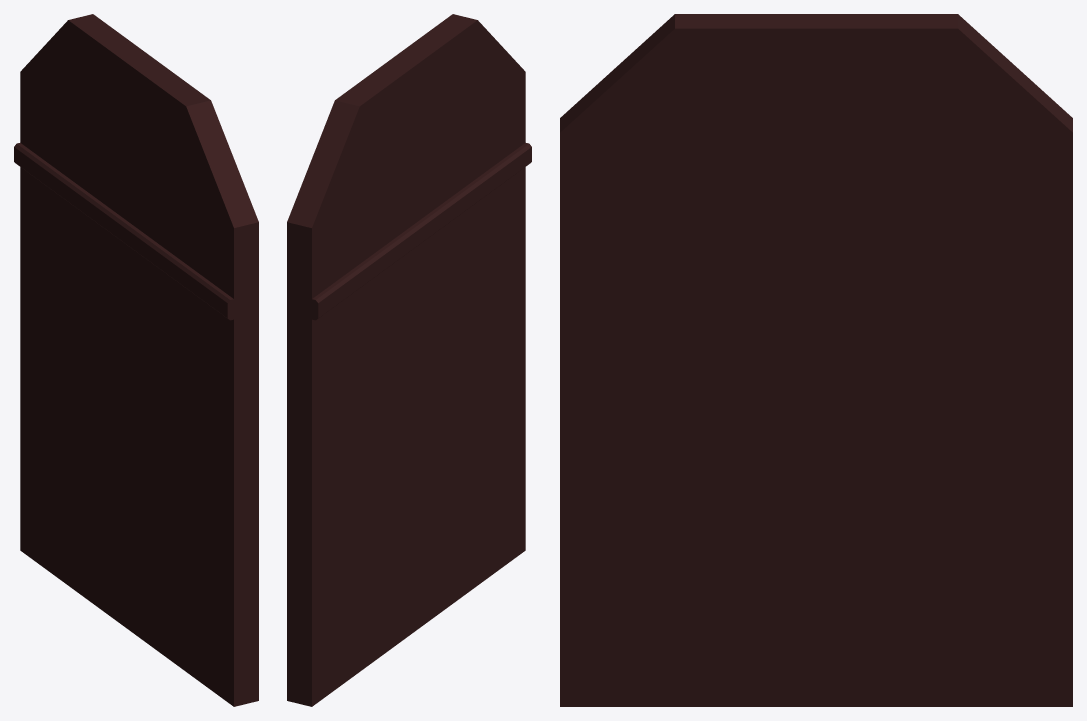
The model's file is TrainWall.fbx.
The picture shows the model from 3 angles, left to right: view 1: azimuth 30°, elevation 25°; view 2: azimuth 150°, elevation 25°; view 3: azimuth 270°, elevation 25°; orthographic projection. The views are drawn at different scales.
Visible parts, largest first — view 1: pCube36; view 2: pCube36; view 3: pCube36.
Part boxes in pixels (bbox=[...]): pCube36: bbox=[14, 14, 258, 706]; pCube36: bbox=[287, 14, 531, 706]; pCube36: bbox=[560, 14, 1072, 706].
Size of the model in its own units: 16.87 by 292 by 200.
